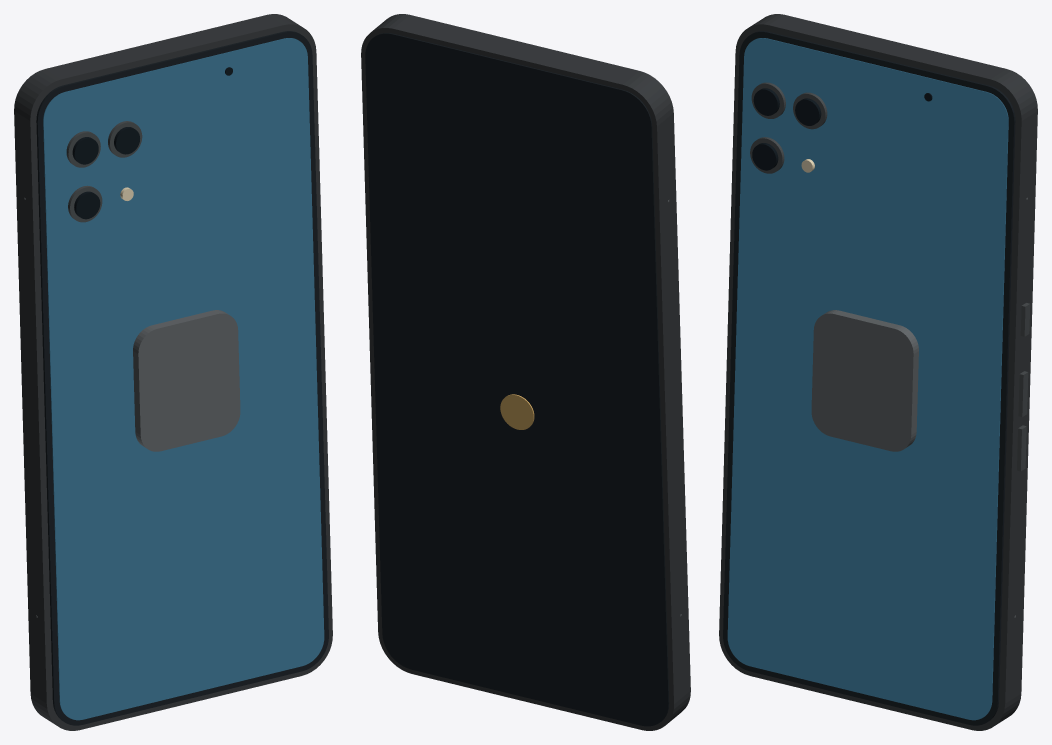
Rendered from smartphone.glb.
3 views of the same model, side by side, from view 1: azimuth 30°, elevation 25°; view 2: azimuth 150°, elevation 25°; view 3: azimuth 330°, elevation 25° (orthographic). The views are drawn at different scales.
Visible parts, largest first — view 1: world; view 2: world; view 3: world.
Boxes of the visible parts, bbox=[...] form: world: bbox=[14, 14, 332, 730]; world: bbox=[361, 14, 690, 730]; world: bbox=[719, 14, 1037, 730].
Bounding box in the file's own units: 0.7715 × 1.63 × 0.1715.
